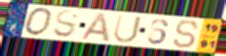6: (147, 19, 170, 46)
A: (79, 12, 112, 43)
O: (24, 6, 55, 37)
S: (51, 9, 81, 40), (172, 19, 201, 50)
U: (112, 13, 144, 45)
